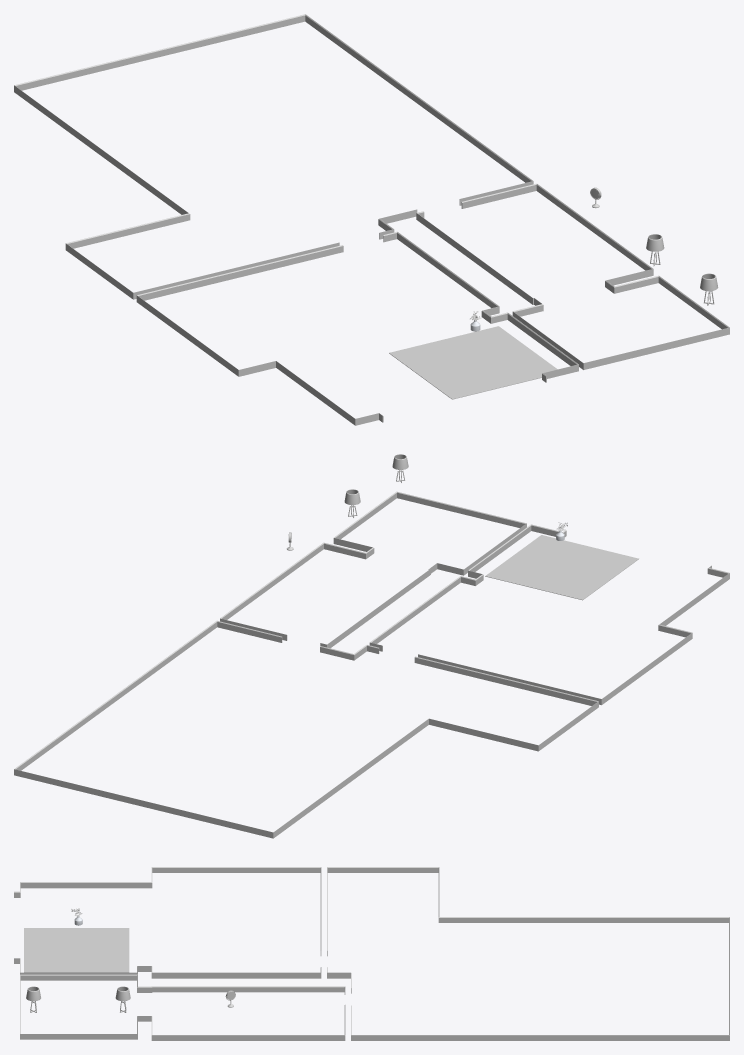
The model's file is PS01__TrueVision__MainBuildingModel__ProposedInteriorDecor__MeshModel__.glb.
3 renders of one model, top to bottom at view 1: azimuth 30°, elevation 25°; view 2: azimuth 150°, elevation 25°; view 3: azimuth 270°, elevation 25°, orthographic. The views are drawn at different scales.
Visible parts, largest first — view 1: 29__ProposedBuilding__InteriorDecor::Default; view 2: 29__ProposedBuilding__InteriorDecor::Default; view 3: 29__ProposedBuilding__InteriorDecor::Default.
Boxes of the visible parts, bbox=[...] form: 29__ProposedBuilding__InteriorDecor::Default: bbox=[14, 14, 729, 425]; 29__ProposedBuilding__InteriorDecor::Default: bbox=[14, 491, 729, 838]; 29__ProposedBuilding__InteriorDecor::Default: bbox=[14, 867, 729, 1040].
Bounding box in the file's own units: 9.45 × 1.2 × 16.99.
Materials: 3 (1 with a texture image).
